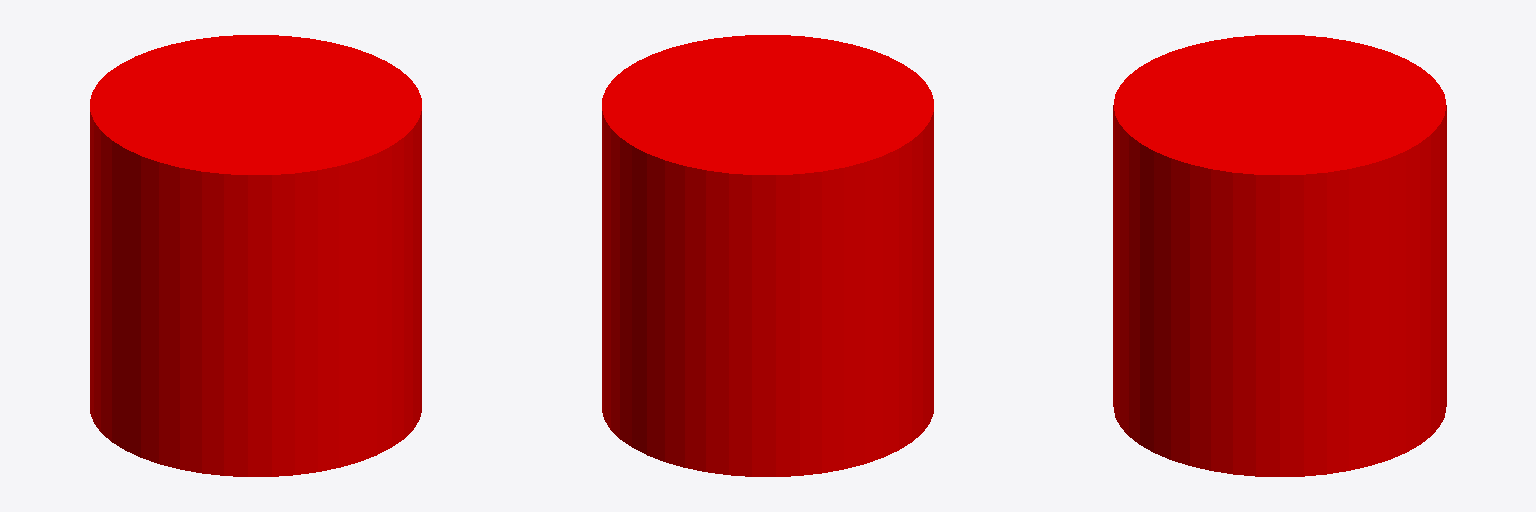
File: cilindro.obj
3 renders of one model, left to right at view 1: azimuth 30°, elevation 25°; view 2: azimuth 150°, elevation 25°; view 3: azimuth 270°, elevation 25°, orthographic.
Visible parts, largest first — view 1: Mesh1 Model; view 2: Mesh1 Model; view 3: Mesh1 Model.
Part boxes in pixels (x1,y1,x2,y2): Mesh1 Model: (90, 35, 421, 476); Mesh1 Model: (602, 35, 933, 476); Mesh1 Model: (1113, 35, 1446, 476).
Size of the model in its own units: 5 by 5 by 5.